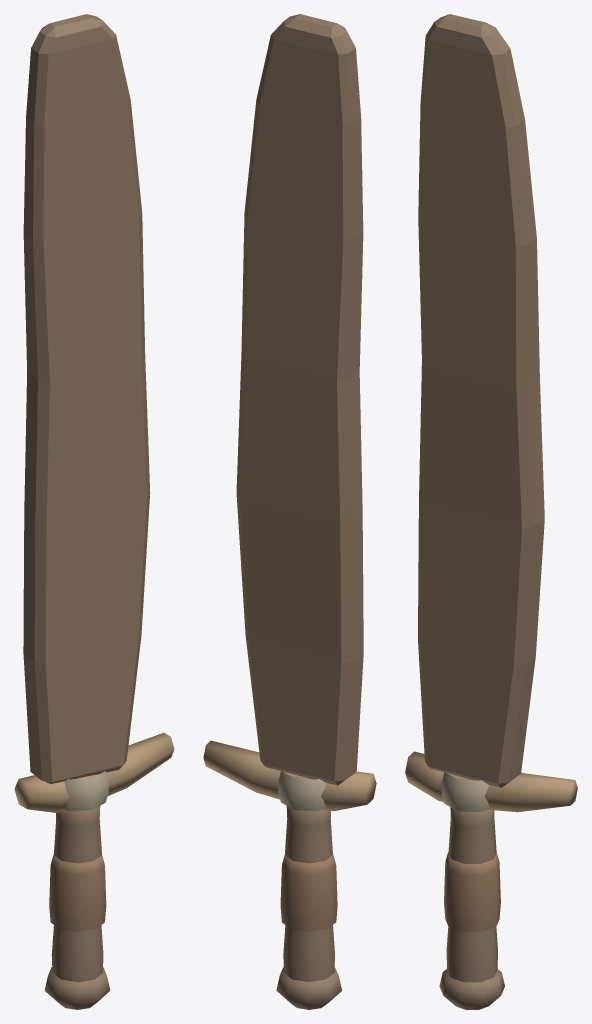
File: wpn_wooden_sword.glb
3 renders of one model, left to right at view 1: azimuth 30°, elevation 25°; view 2: azimuth 150°, elevation 25°; view 3: azimuth 330°, elevation 25°, orthographic.
Parts seen in each view (by area): view 1: wpn_wooden_sword; view 2: wpn_wooden_sword; view 3: wpn_wooden_sword.
Part boxes in pixels (x1,y1,x2,y2): wpn_wooden_sword: (14, 14, 174, 1009); wpn_wooden_sword: (203, 14, 376, 1009); wpn_wooden_sword: (405, 14, 577, 1009).
Size of the model in its own units: 0.1333 by 0.8053 by 0.0486.
